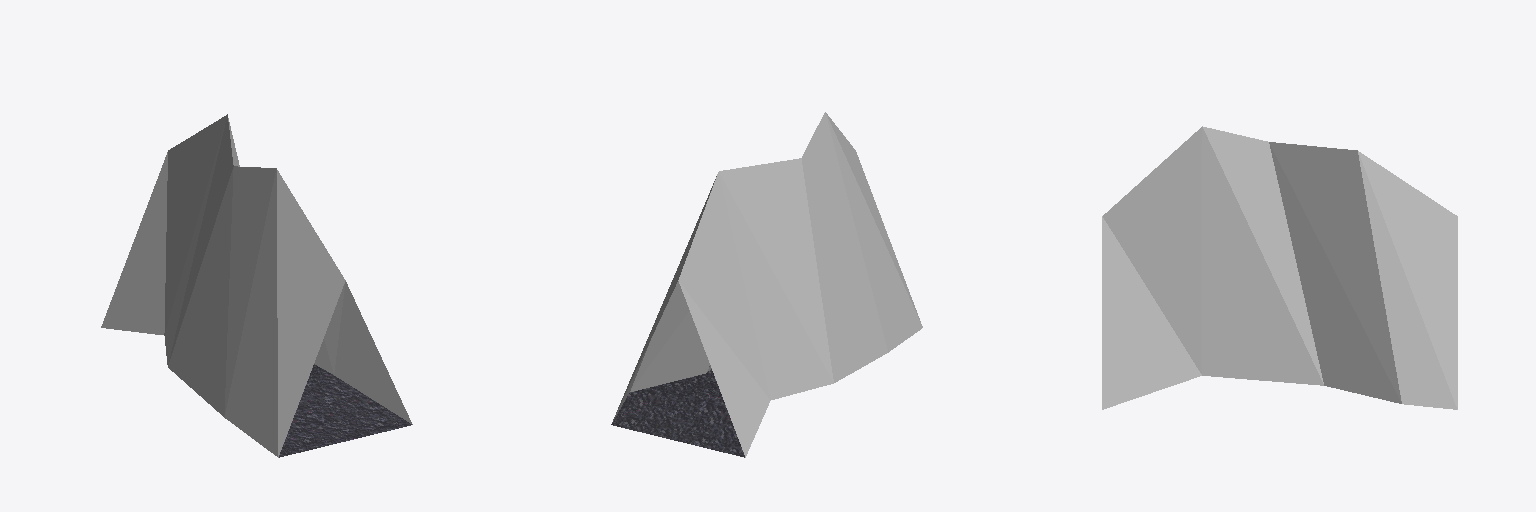
3 renders of one model, left to right at view 1: azimuth 30°, elevation 25°; view 2: azimuth 150°, elevation 25°; view 3: azimuth 270°, elevation 25°, orthographic.
Visible parts, largest first — view 1: model60107-node_model60107.001; view 2: model60107-node_model60107.001; view 3: model60107-node_model60107.001.
Boxes of the visible parts, <box> form: model60107-node_model60107.001: <box>101,114,412,457</box>; model60107-node_model60107.001: <box>611,112,922,457</box>; model60107-node_model60107.001: <box>1102,126,1457,409</box>.
Bounding box in the file's own units: 6.42 × 9.6 × 12.8.
Materials: 2 (1 with a texture image).